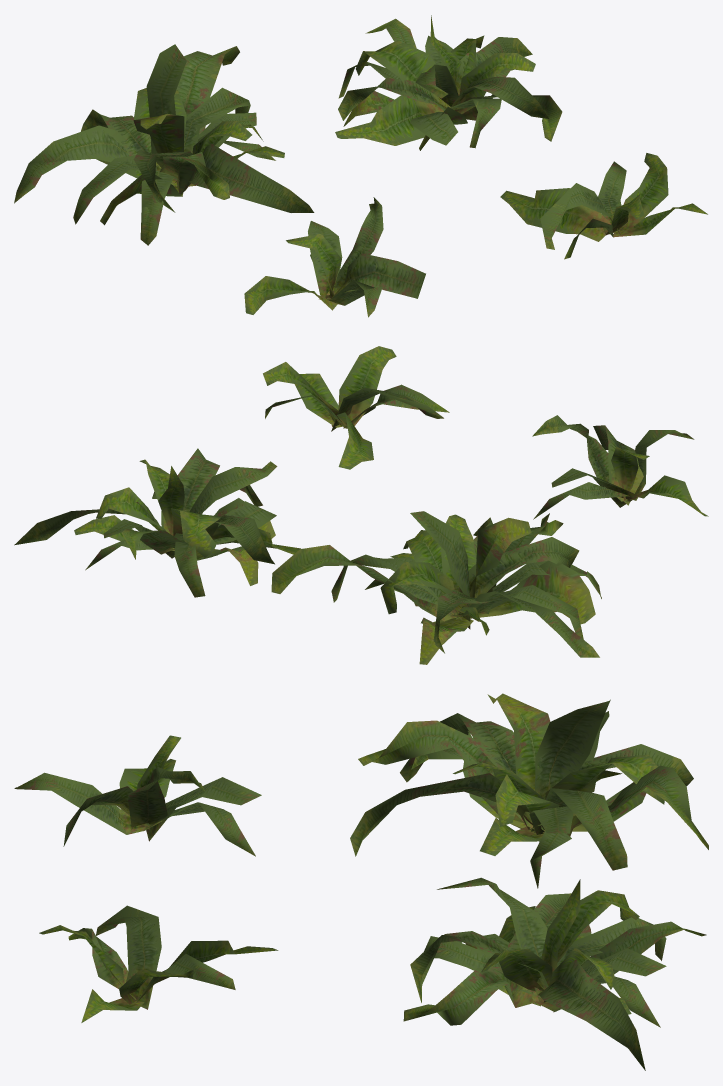
The model's file is fern_02.glb.
The picture shows the model from 3 angles, top to bottom: view 1: azimuth 30°, elevation 25°; view 2: azimuth 150°, elevation 25°; view 3: azimuth 270°, elevation 25°; orthographic projection. The views are drawn at different scales.
Visible parts, largest first — view 1: fern_02_b; view 2: fern_02_b; view 3: fern_02_b.
Boxes of the visible parts, <box> form: fern_02_b: <box>14,15,707,317</box>; fern_02_b: <box>14,346,708,664</box>; fern_02_b: <box>14,693,708,1070</box>.
Size of the model in its own units: 1.97 by 0.4246 by 1.72.
Materials: 1 (1 with a texture image).
